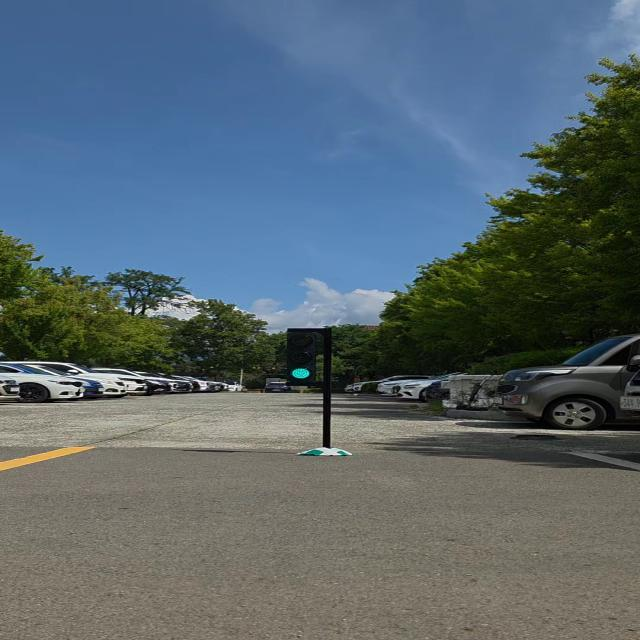green: (284, 326, 322, 383)
